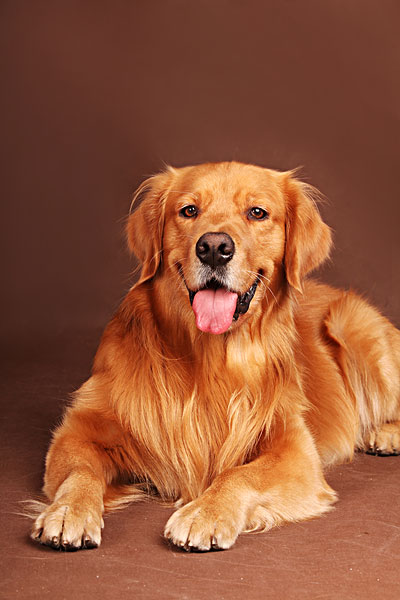dog: (111, 163, 357, 349)
